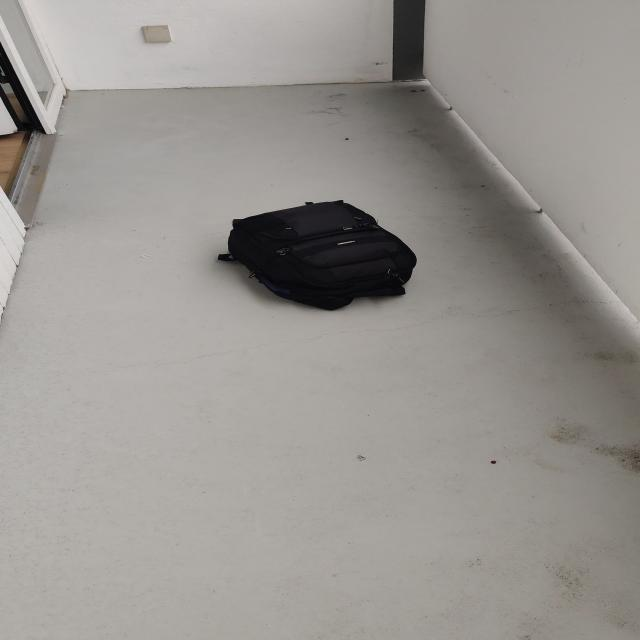backpack: (219, 195, 424, 312)
